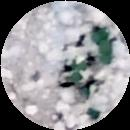Basil: (94, 30, 111, 56)
